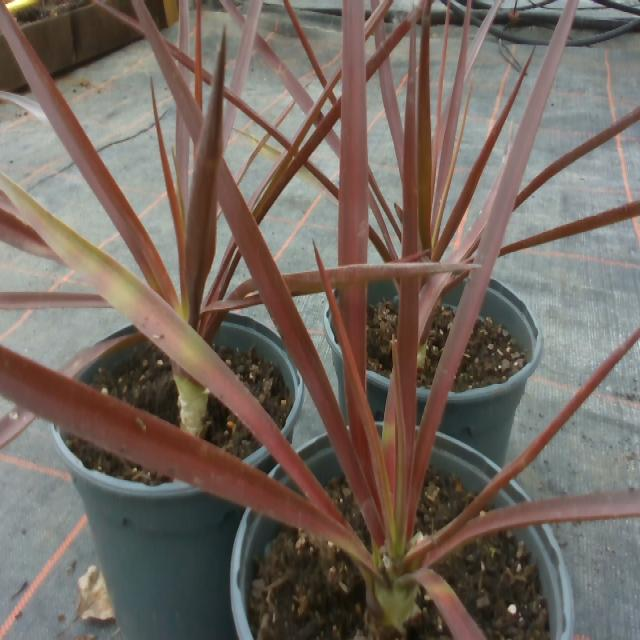Yucca-aloifolia: (0, 175, 319, 497), (409, 0, 576, 515), (0, 347, 355, 543), (417, 328, 639, 559), (0, 8, 175, 296), (219, 157, 363, 489), (314, 245, 394, 527), (432, 61, 528, 257), (426, 489, 639, 563), (248, 67, 341, 215), (513, 107, 639, 209), (514, 107, 639, 209), (187, 35, 225, 327), (254, 99, 341, 223), (338, 0, 368, 263), (499, 200, 639, 256), (152, 80, 187, 304), (146, 21, 203, 144), (434, 15, 468, 211), (392, 279, 419, 479), (414, 569, 485, 639), (254, 36, 313, 115), (325, 257, 475, 287), (0, 197, 63, 263), (225, 88, 290, 148), (402, 27, 418, 256), (418, 0, 432, 249), (229, 0, 262, 95), (378, 57, 402, 168), (464, 5, 495, 79), (419, 273, 451, 341), (203, 279, 265, 312), (368, 188, 395, 257), (450, 209, 487, 259), (346, 285, 365, 381), (367, 27, 400, 80), (0, 292, 109, 308), (95, 0, 143, 35), (207, 240, 234, 301), (296, 160, 337, 199), (176, 112, 190, 201), (364, 0, 393, 40), (283, 269, 323, 296), (165, 40, 195, 72), (220, 245, 240, 293), (369, 227, 393, 260), (220, 0, 244, 27), (223, 103, 236, 149), (179, 0, 187, 53), (325, 129, 339, 157), (374, 23, 386, 45), (485, 185, 496, 207), (202, 71, 212, 84), (445, 97, 450, 113), (438, 133, 443, 141)
